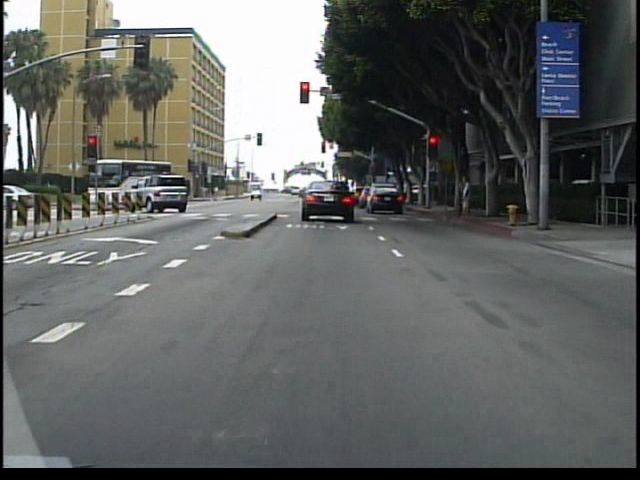person: (459, 169, 478, 217)
